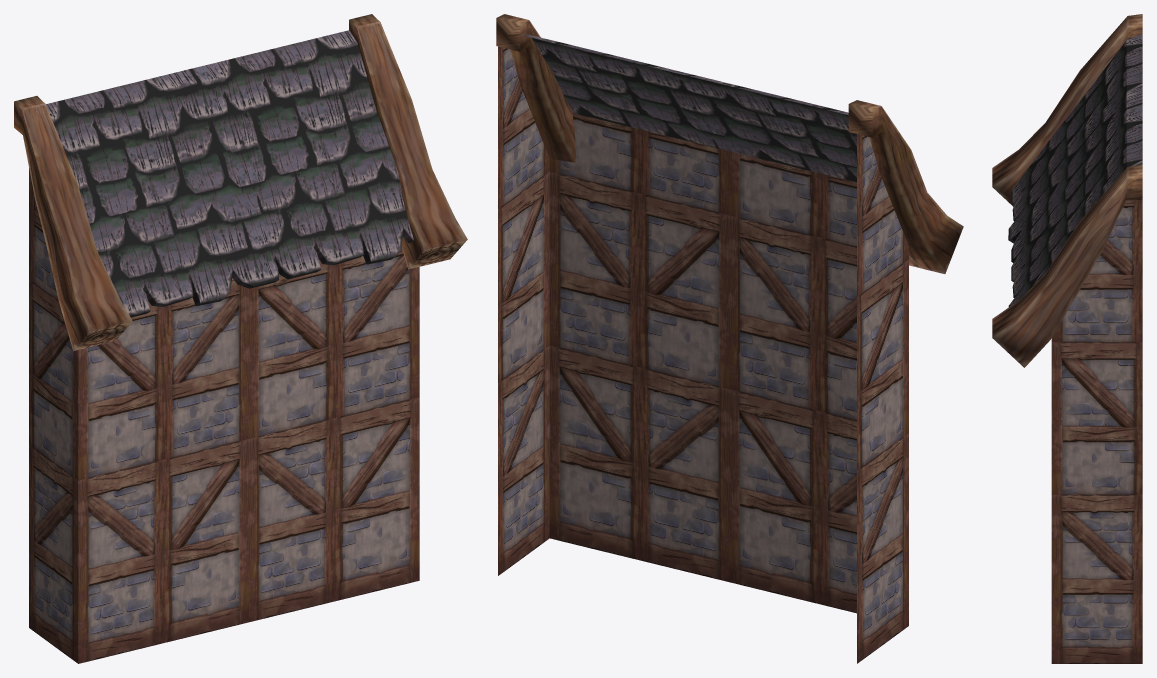
The model's file is wall_roof1x2.fbx.
3 renders of one model, left to right at view 1: azimuth 30°, elevation 25°; view 2: azimuth 150°, elevation 25°; view 3: azimuth 270°, elevation 25°, orthographic. The views are drawn at different scales.
Parts seen in each view (by area): view 1: wall_roof1x2; view 2: wall_roof1x2; view 3: wall_roof1x2.
Boxes of the visible parts, box(x1,y1,x2,y2) form: wall_roof1x2: box(14, 14, 467, 663); wall_roof1x2: box(496, 14, 963, 663); wall_roof1x2: box(992, 14, 1142, 663).
Size of the model in its own units: 331 by 445 by 124.
